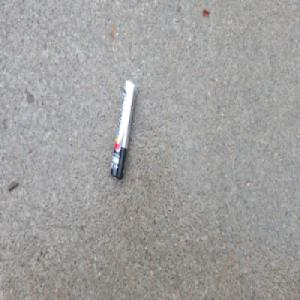Battery: (109, 78, 137, 181)
